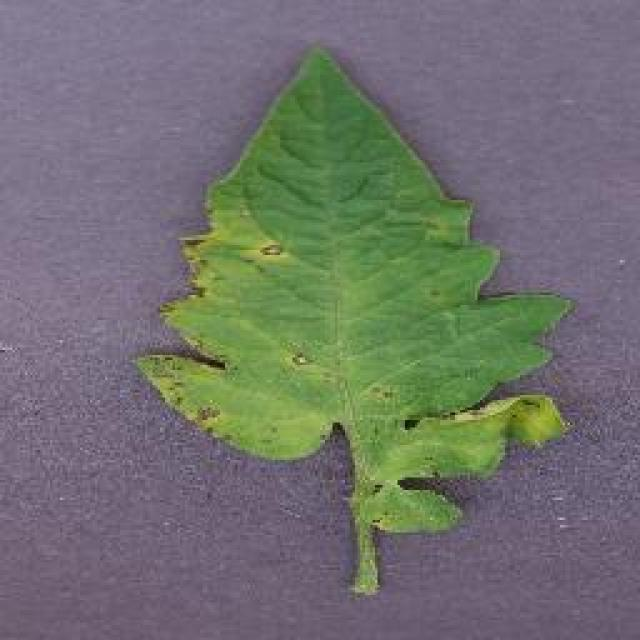Tomato target spot leaf: (135, 44, 573, 536)
